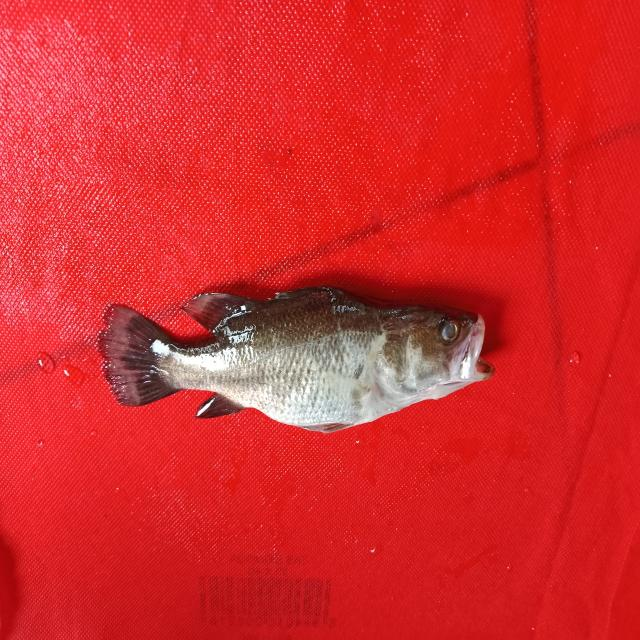ikan: (84, 239, 510, 460)
